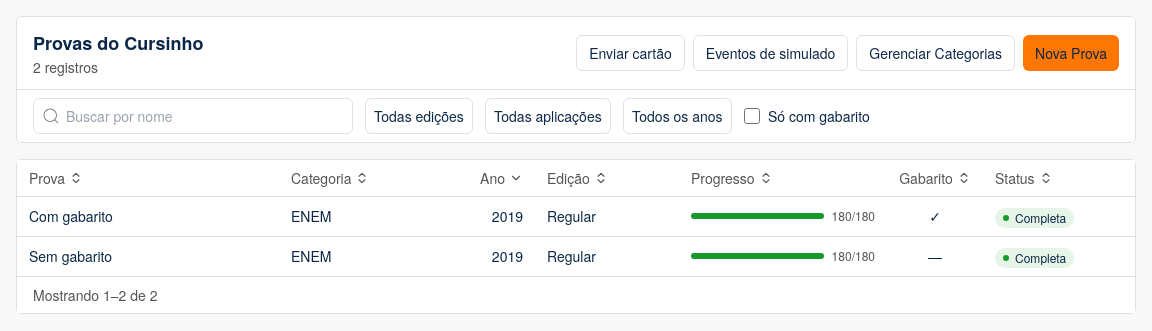
filtros › o checkbox de gabarito filtra e entra na contagem de filtros ativos
The image size is (1152, 331).
Click the checkbox. click: (752, 116)
box: [744,108,760,124]
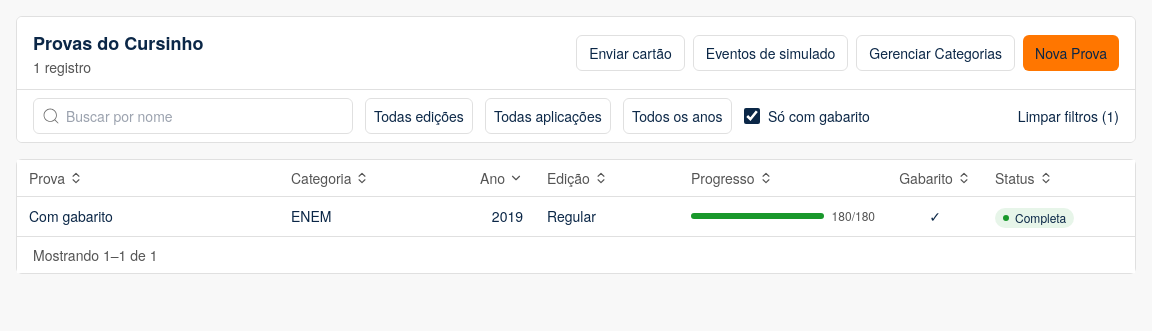
Check: the button "Limpar filtros (1)" is shown, box [1018,106,1119,126]
